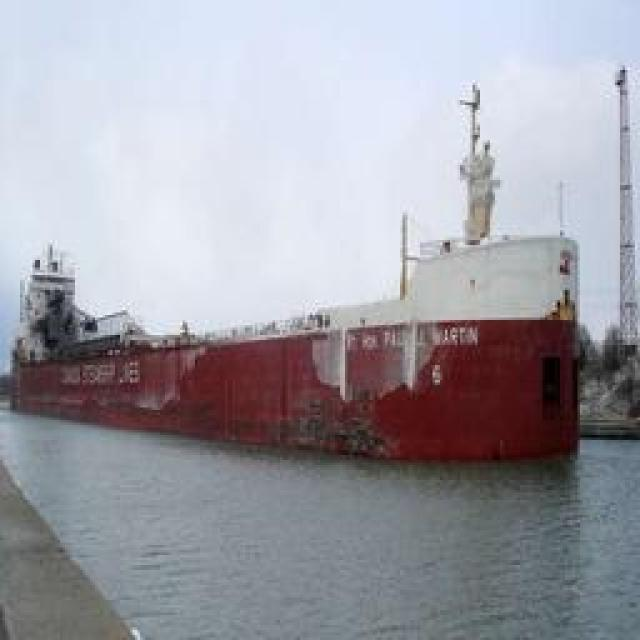CIV_Ship: (20, 215, 610, 460)
